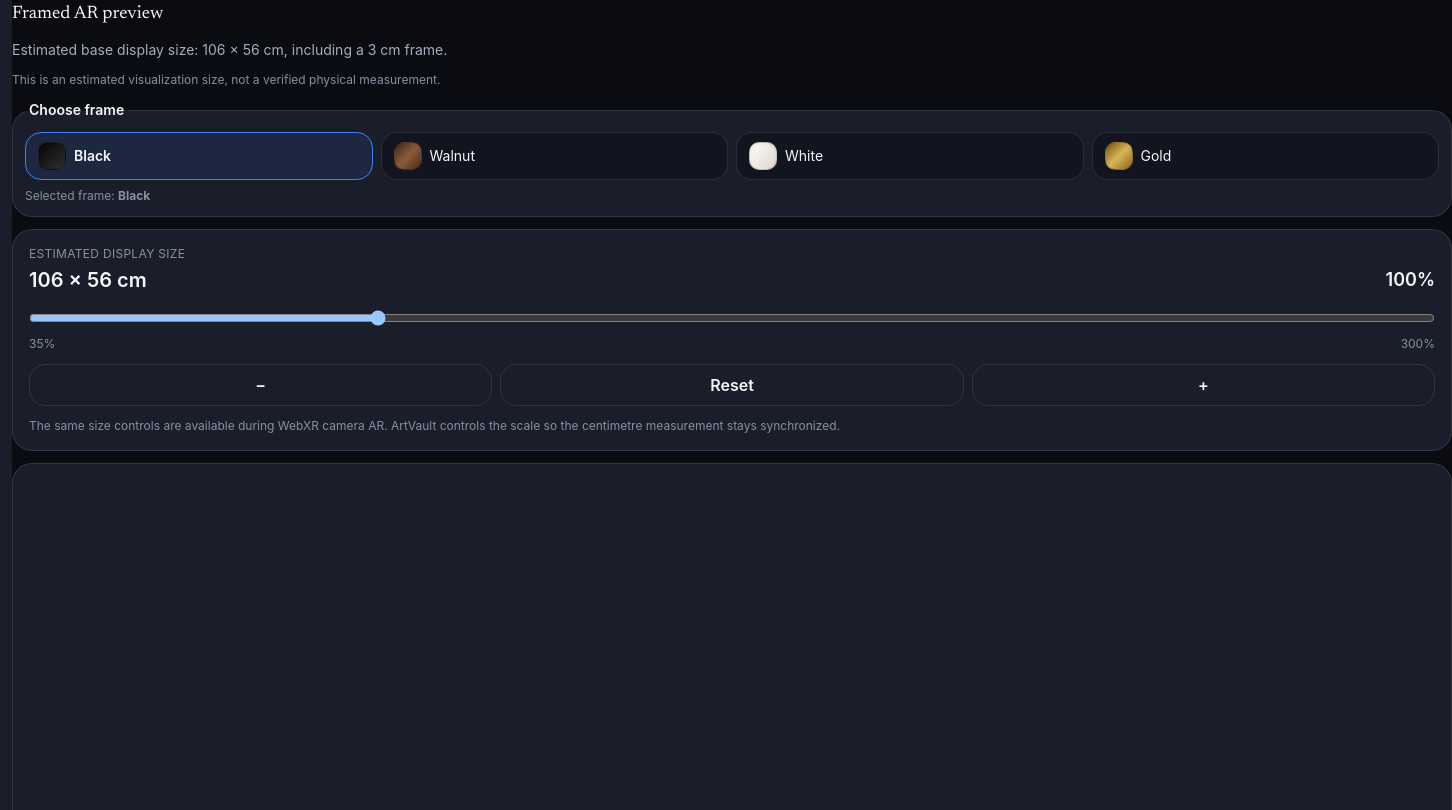
Scenario: real AR viewer wrapper › updates exact model scale and live estimated dimensions
Expected: the element named "Artwork size" shows "106 × 56 cm", [12,229,1451,451]
Expected: the element named "Artwork size" shows "100%", [12,229,1451,451]
Click the button named "Increase artwork size" at (1203, 385), box [972,364,1435,406]
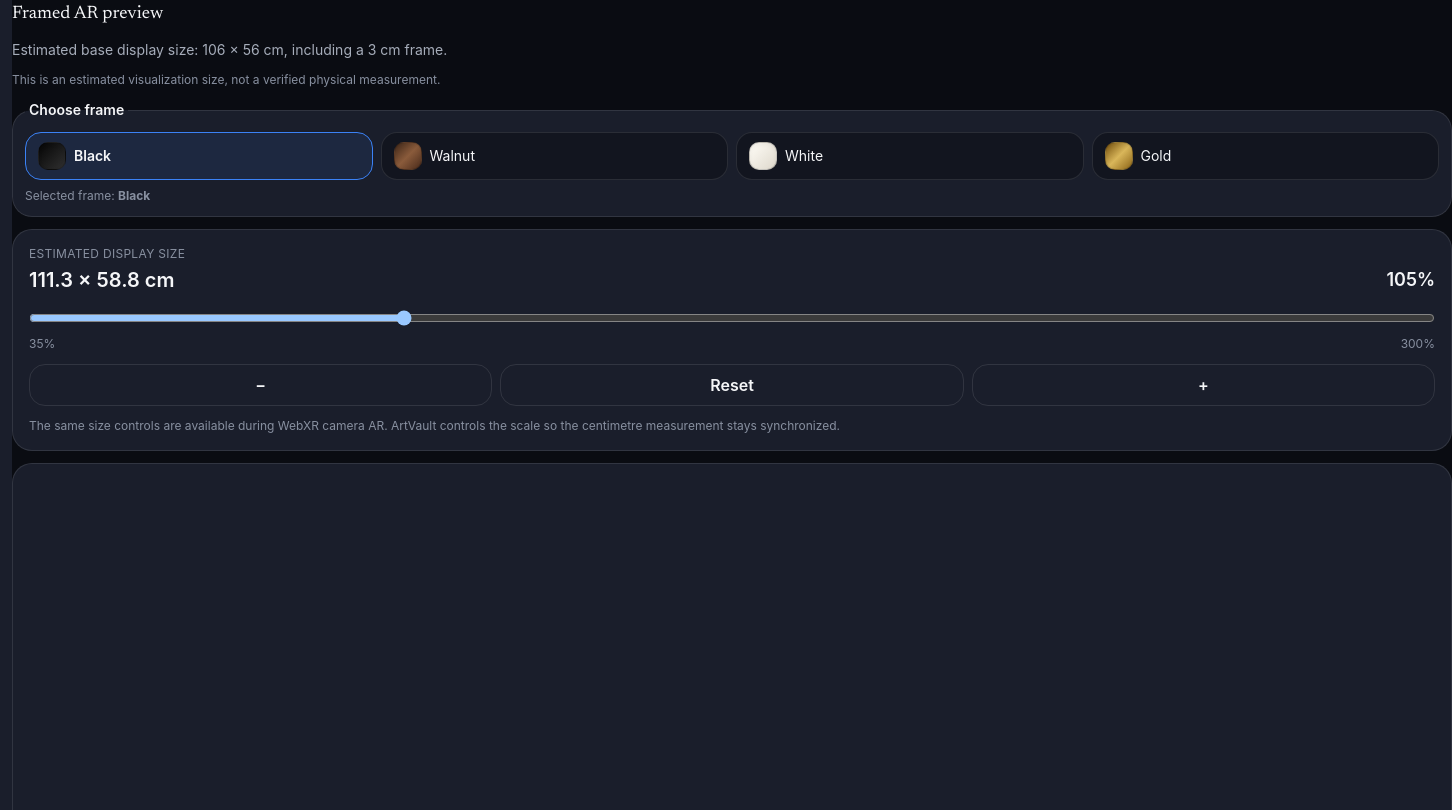
Result: the element named "Artwork size" shows "111.3 × 58.8 cm" at [12,229,1451,451]
Result: the element named "Artwork size" shows "105%" at [12,229,1451,451]
